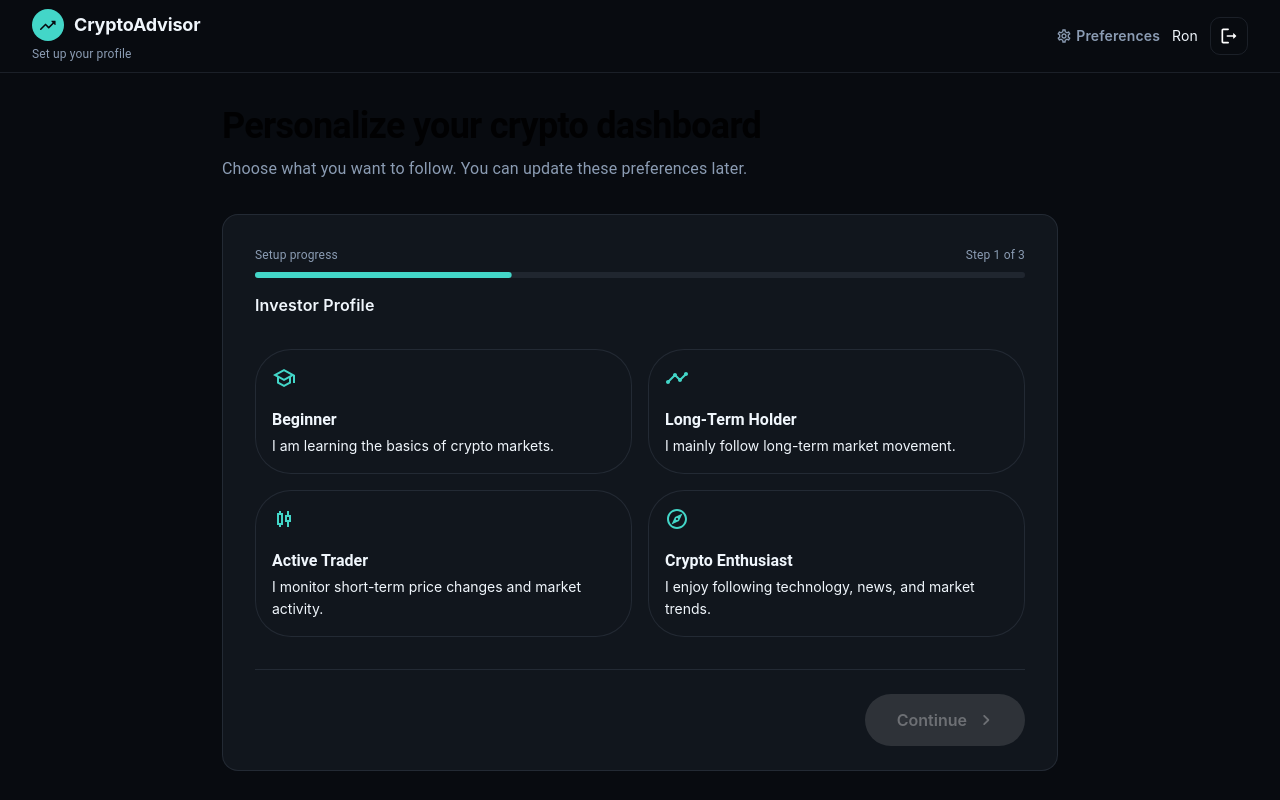
Test: onboarding flow › loads coins from GET /api/coins
The width and height of the screenshot is (1280, 800).
Expected: the heading "Investor profile" is shown, [255,295,374,315]
Click the button "Beginner I am learning the basics of crypto markets.".
click(304, 419)  # box [255,349,632,474]
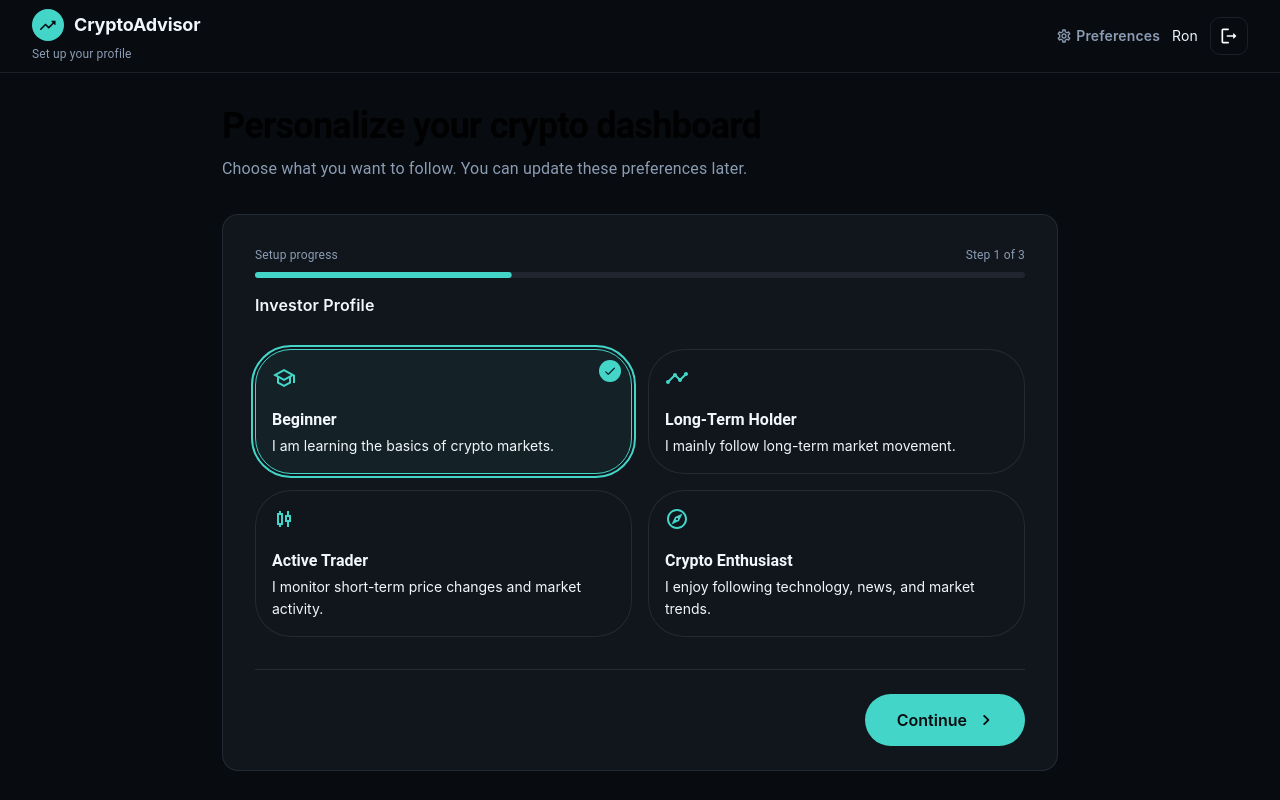
Click the button "Continue".
click(945, 720)  # box [865,694,1025,746]
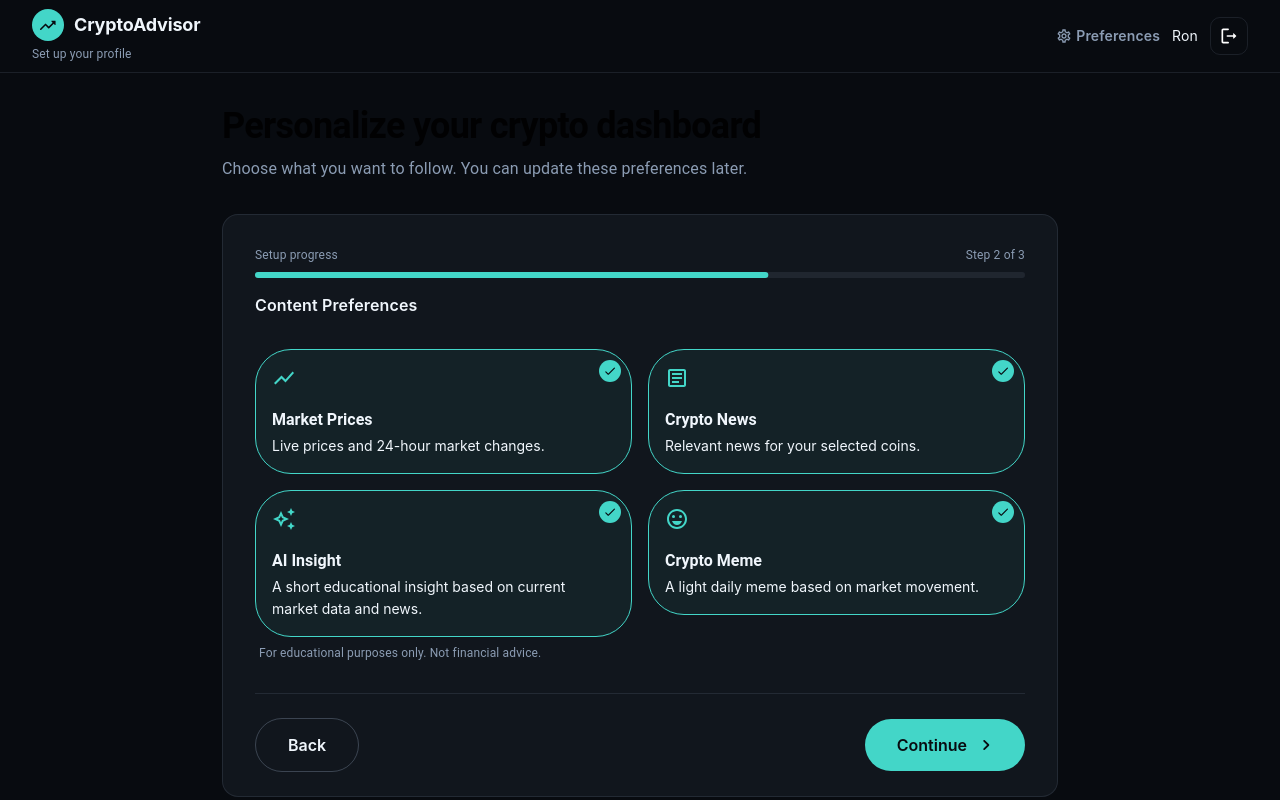
Click the button "Continue".
click(945, 745)  # box [865,719,1025,771]
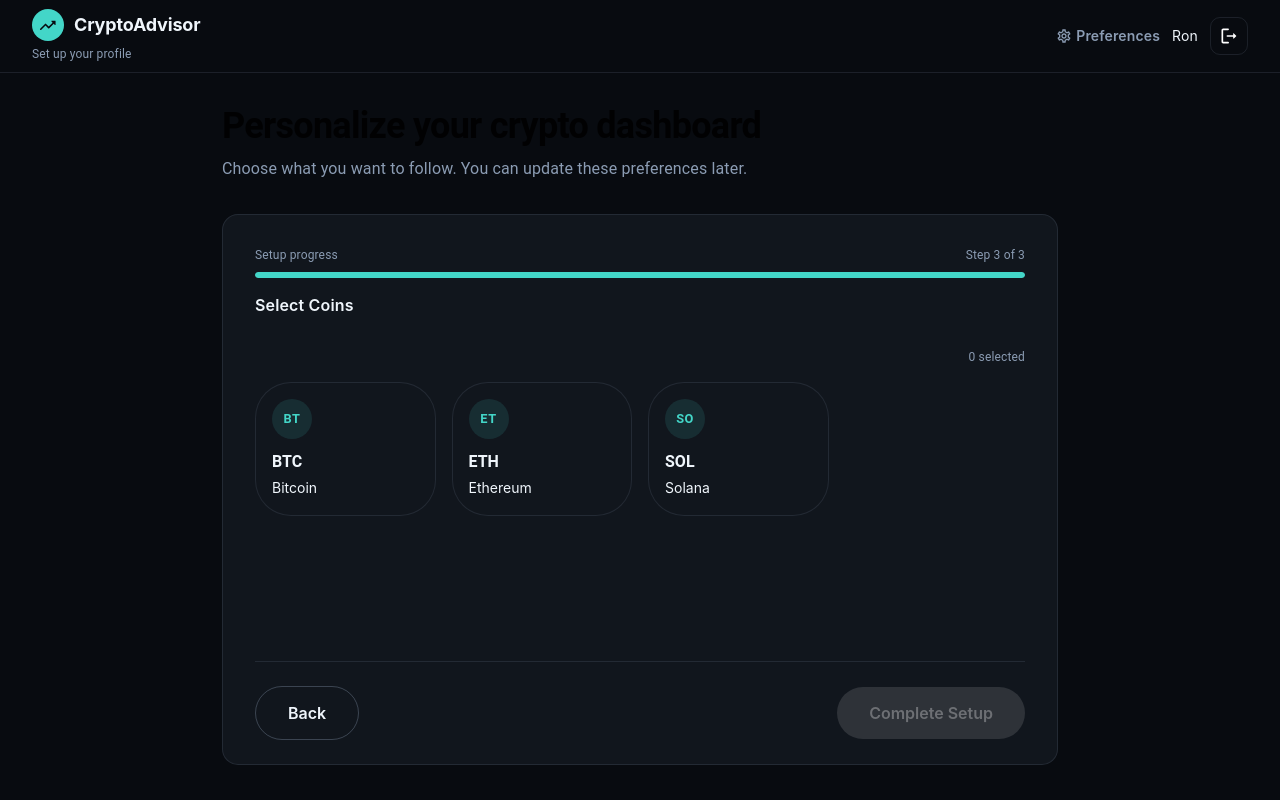
Expected: the text "BTC" is shown, [272,452,302,471]
Expected: the text "Bitcoin" is shown, [272,479,317,496]
